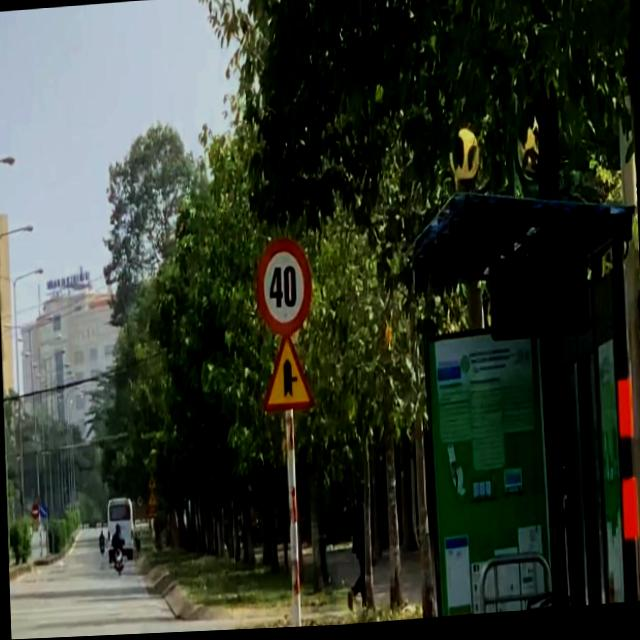Cam di nguoc chieu: (30, 503, 39, 519)
Giao nhau voi duong khong uu tien ben phai: (261, 334, 314, 414)
Toc do toi da cho phep: (253, 238, 313, 340)
Vong chuong ngai vat sang phai: (38, 503, 48, 519)
